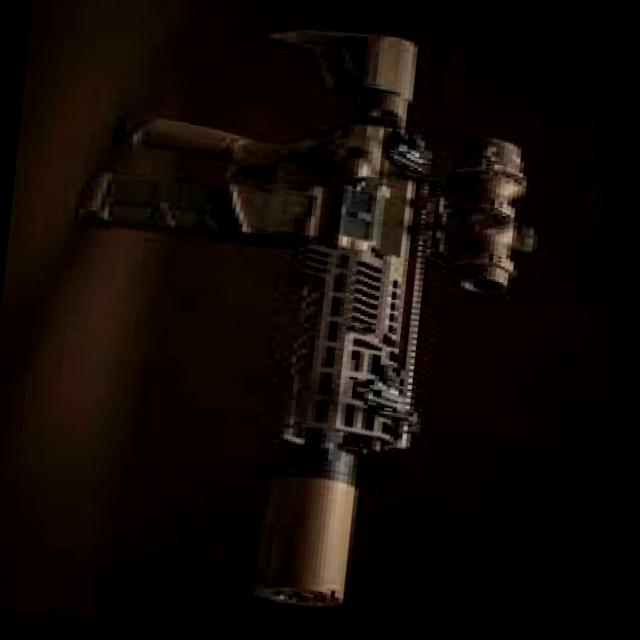long weapon: (46, 7, 556, 639)
